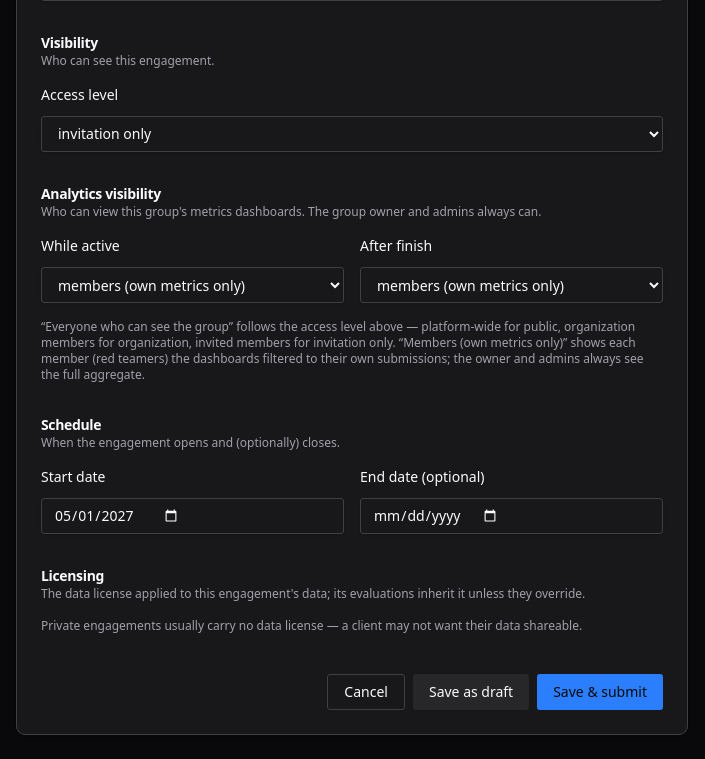
it: EvaluationGroupFormPage — draft vs non-draft edit › a past start date blocks the submit without writing anything
(page scrolled)
In the date field labelled "Start date": (192,516) [41,498,344,534], type "2020-01-01"
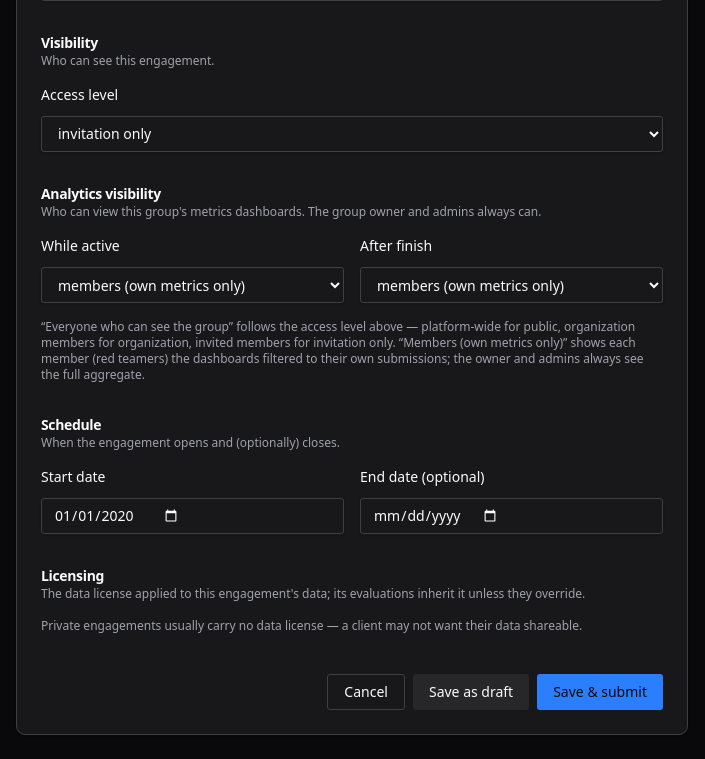
Click the button "Save & submit": (600,692) [537,674,663,710]
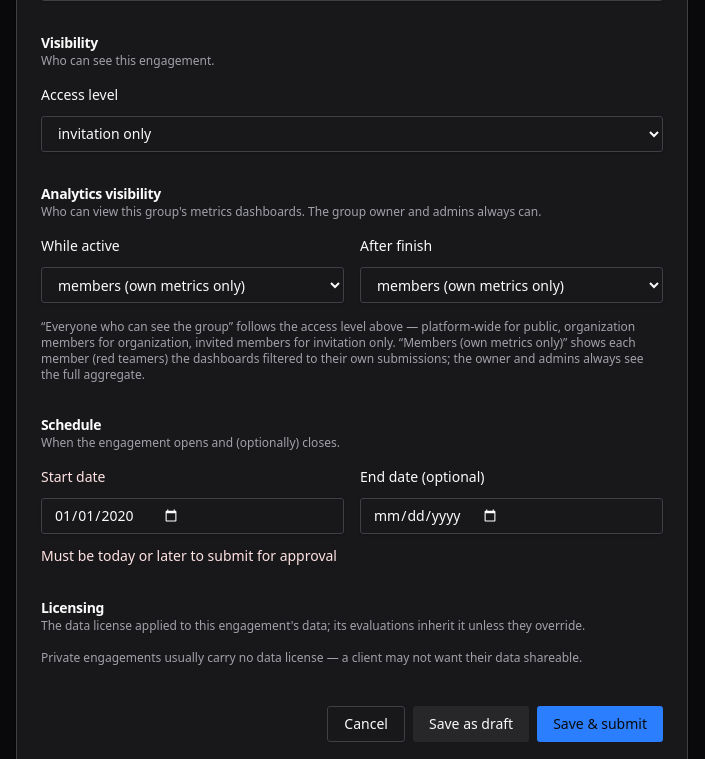
expect the text "Must be today or later to submit for approval" is shown: met, box [41,546,344,566]
